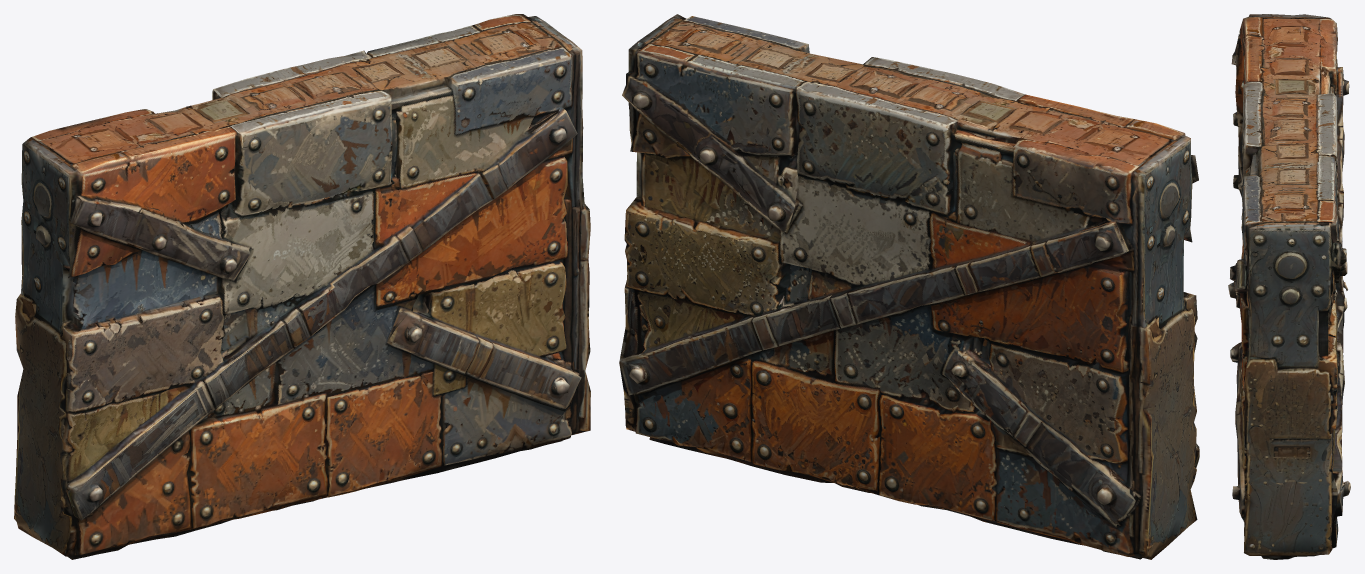
File: Settle_Patch_ReinforcedMetal.fbx
The picture shows the model from 3 angles, left to right: view 1: azimuth 30°, elevation 25°; view 2: azimuth 150°, elevation 25°; view 3: azimuth 270°, elevation 25°; orthographic projection. The views are drawn at different scales.
Parts seen in each view (by area): view 1: texture_mapping; view 2: texture_mapping; view 3: texture_mapping.
Part boxes in pixels (x1=…): texture_mapping: x1=14, y1=14, x2=590, y2=559; texture_mapping: x1=619, y1=14, x2=1199, y2=559; texture_mapping: x1=1228, y1=14, x2=1350, y2=559.
Bounding box in the file's own units: 1 × 0.2378 × 0.7298.
Materials: 1 (1 with a texture image).
